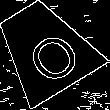O_NW: (11, 16, 79, 82)
